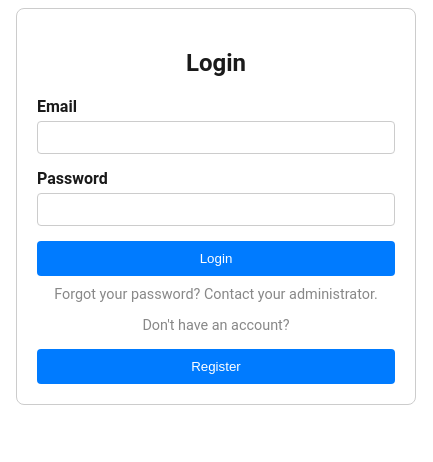
Test: Login › shows error message on login failure
The width and height of the screenshot is (433, 462).
Type "bad@test.com" into the field labelled "Email".
click(216, 137); type("bad@test.com")  # box [37,121,395,154]
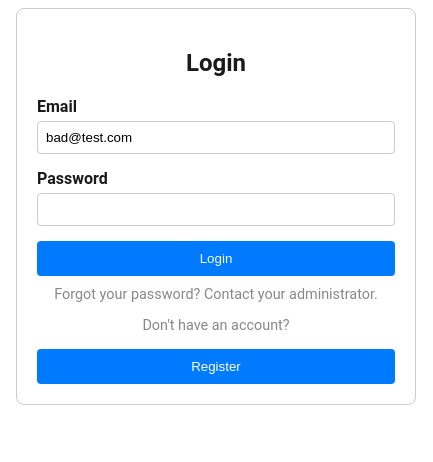
Type "wrong" into the password field labelled "Password".
click(216, 209); type("wrong")  # box [37,193,395,226]
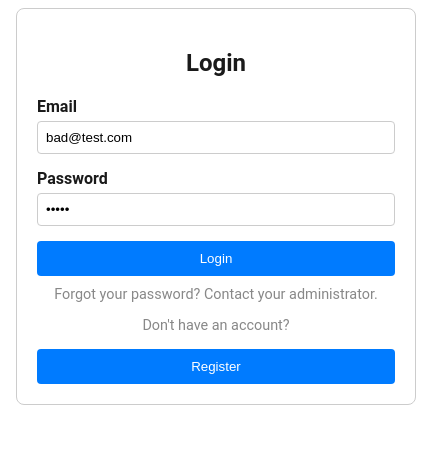
Click the button "Login".
click(216, 258)  # box [37,241,395,276]
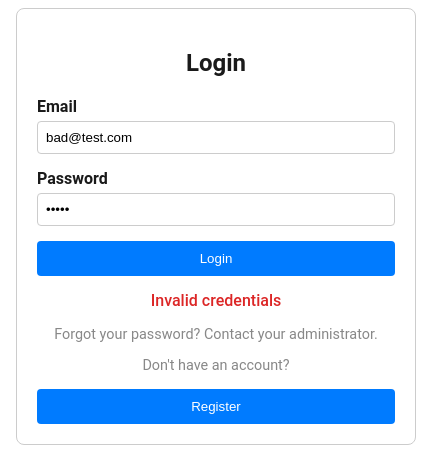
Check: the text "Invalid credentials" is shown, box [151,291,281,310]
